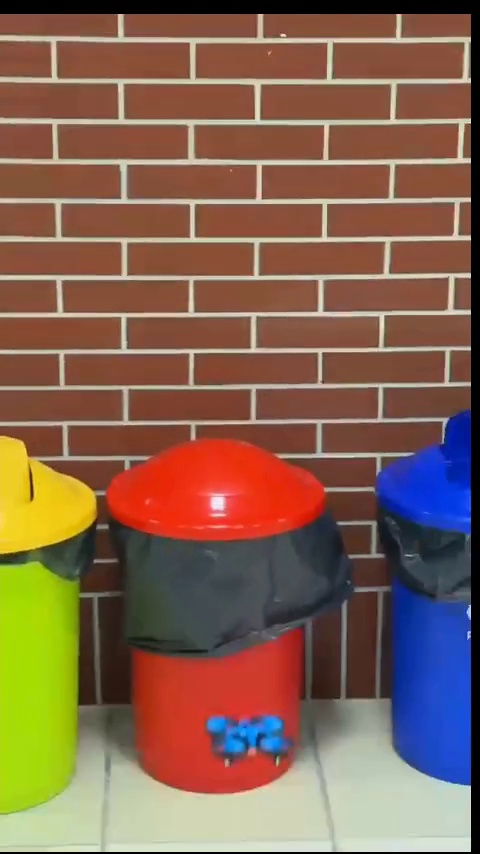drone: (207, 715, 287, 768)
